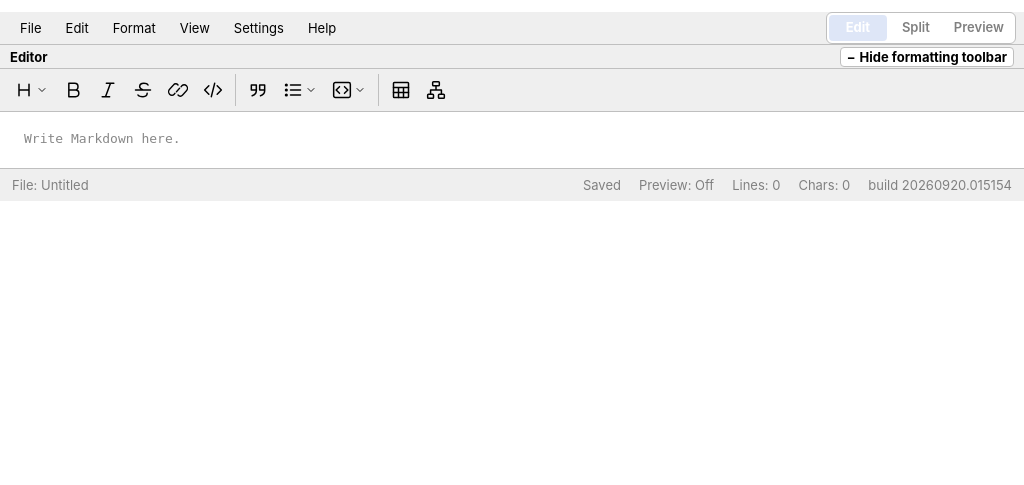
History menu › groups recent files under File while preserving readable names
This screenshot has width=1024, height=485.
Click the button "File" at (31, 28), box left=8, top=12, right=54, bottom=44
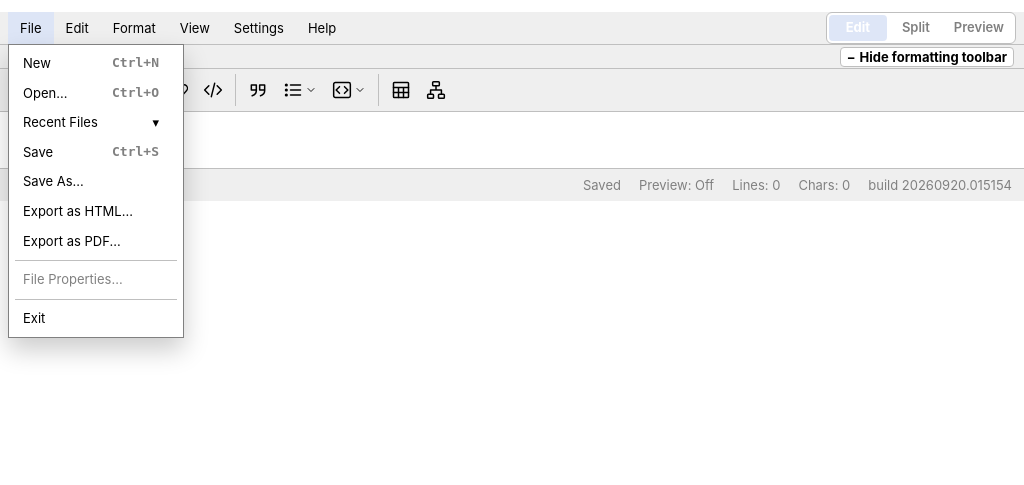
Expected: the element with class "menu-popover" does not show "a-very-long-history-filename-that-needs-clipping.md"
Expected: the element with class "menu-popover" does not show "Clear Recent Files"
Click the menu item "Recent Files ▾" at (96, 123), box left=13, top=108, right=179, bottom=138
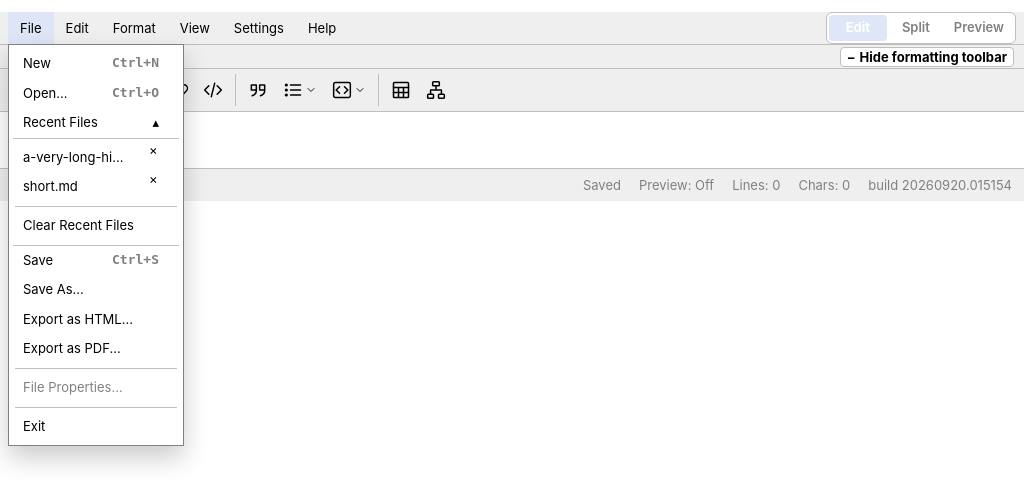
Expected: the element with class "recent-files-group" is shown, left=13, top=138, right=179, bottom=246
Expected: the menu item "Clear Recent Files" is shown, left=13, top=211, right=179, bottom=241
